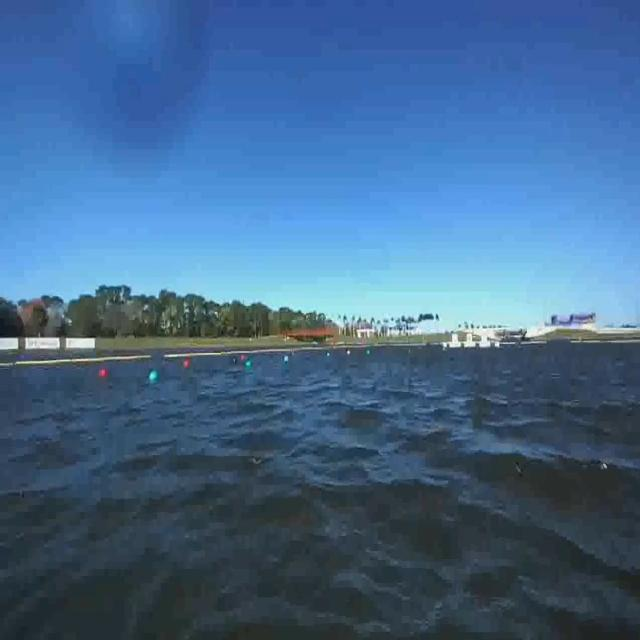green-buoy: (148, 369, 158, 381)
red-buoy: (97, 367, 107, 377)
